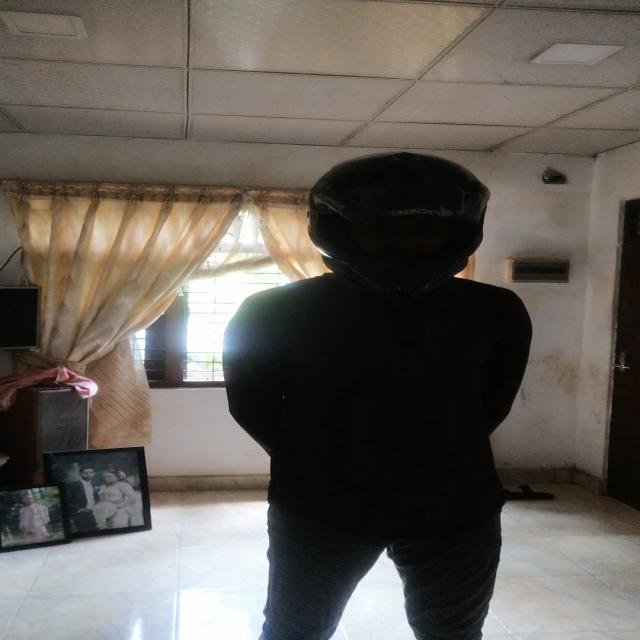Helmet_Wearer: (301, 148, 502, 296)
Person: (227, 141, 532, 640)
